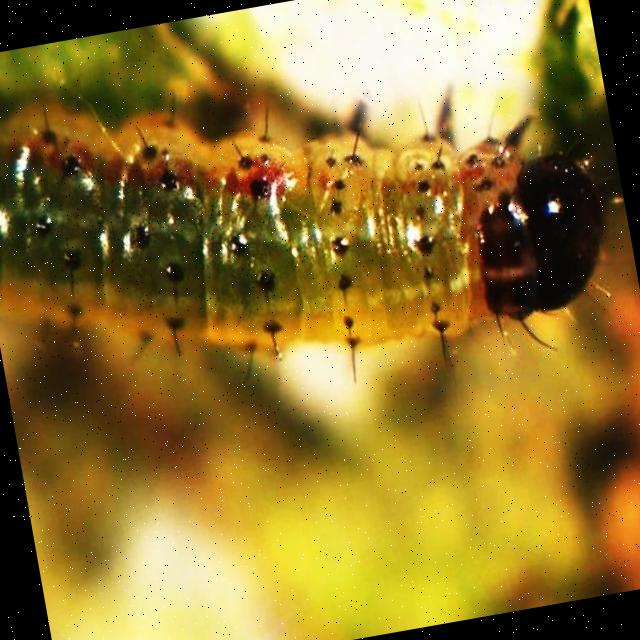worm: (1, 6, 632, 449)
